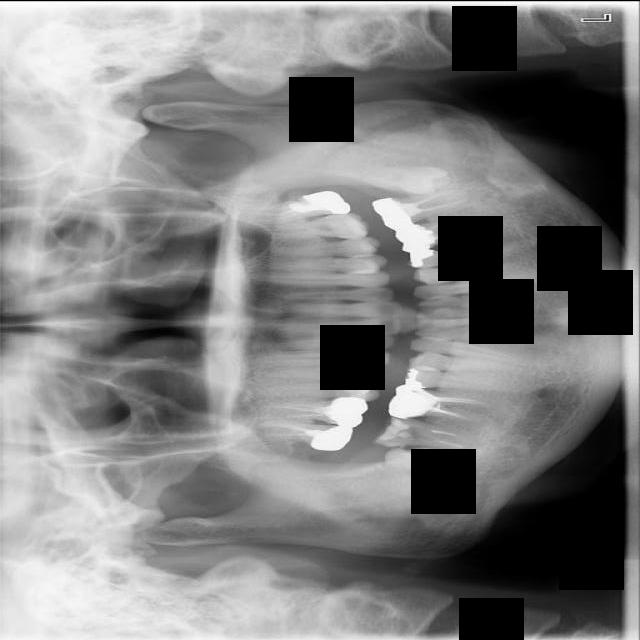52: (372, 406, 422, 459), (368, 188, 414, 236), (303, 179, 355, 220), (308, 421, 358, 457), (388, 381, 431, 422), (326, 393, 368, 429), (391, 219, 432, 254), (337, 361, 384, 384), (333, 378, 380, 400), (404, 363, 438, 388), (409, 248, 441, 267)
73: (411, 386, 503, 431), (228, 193, 333, 227), (415, 205, 496, 249), (392, 185, 473, 226), (259, 388, 342, 424), (258, 416, 340, 449), (404, 418, 477, 449), (619, 9, 625, 17)
BioHorizons Implant: (225, 188, 352, 229)
Biomet 3i Implant: (361, 155, 455, 199)
Blue Sky Bio Implant: (371, 186, 472, 230)
Caries: (255, 415, 354, 453)
Implant: (375, 412, 476, 453)
Keystone Dental Implant: (379, 443, 450, 503)
